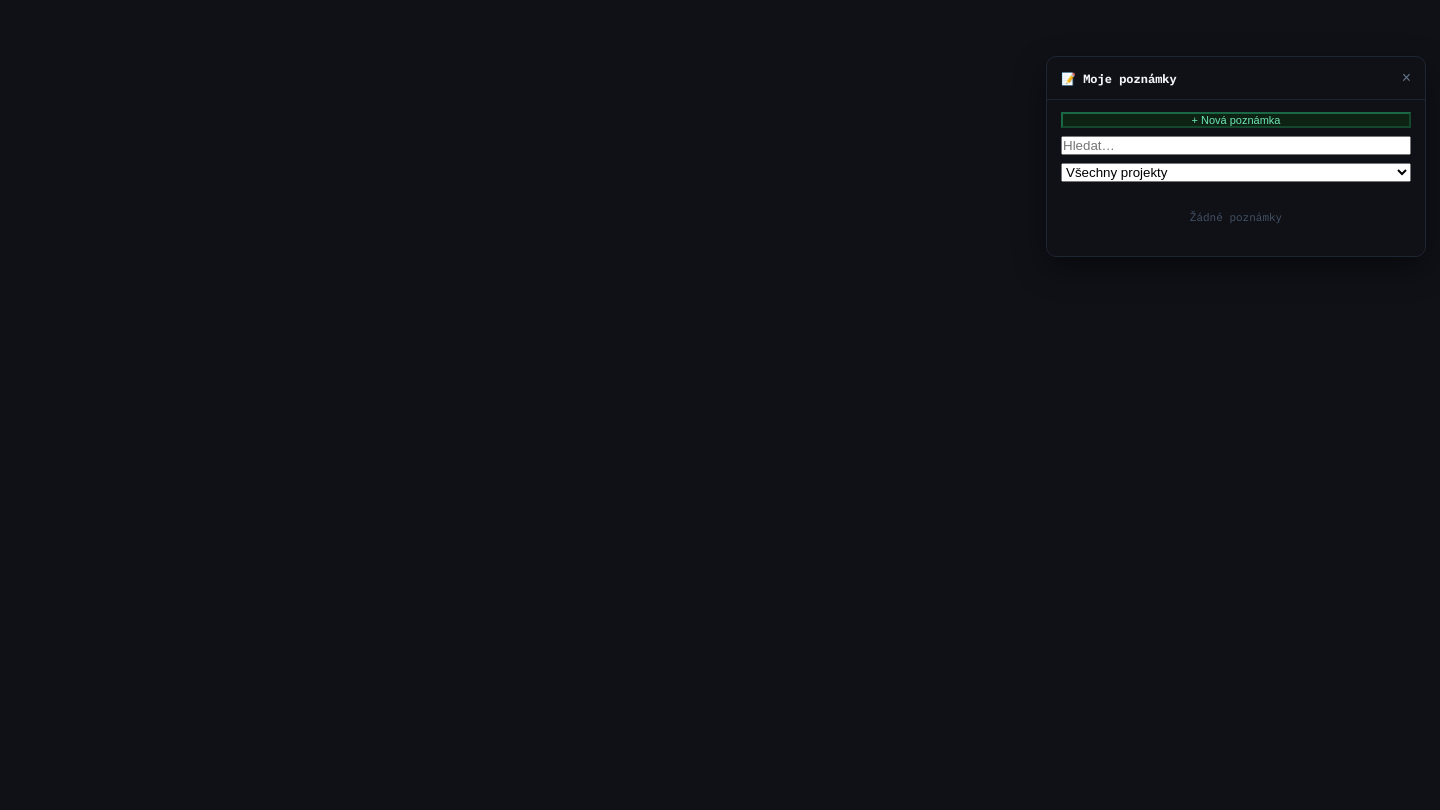
Test: QuickNotesPanel — převod právě napsané poznámky › po uložení draftu je "→ Přidat jako úkol" aktivní bez opětovného otevření
Click the button "+ Nová poznámka" at (1236, 120), box [1061,112,1411,128]
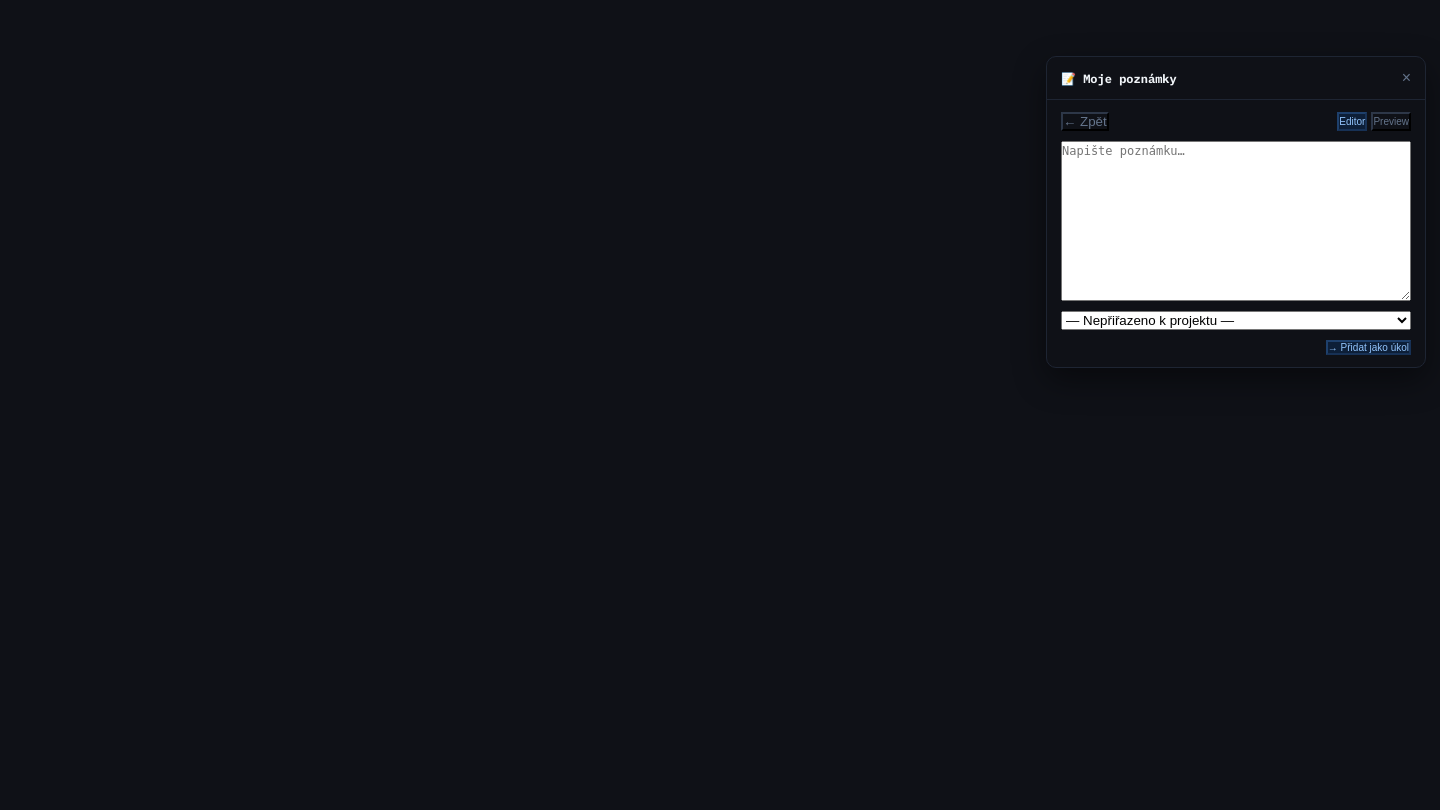
Type "Doplnit audit log" into the text box with placeholder "Napište poznámku…" at (1236, 221), box [1061,141,1411,301]
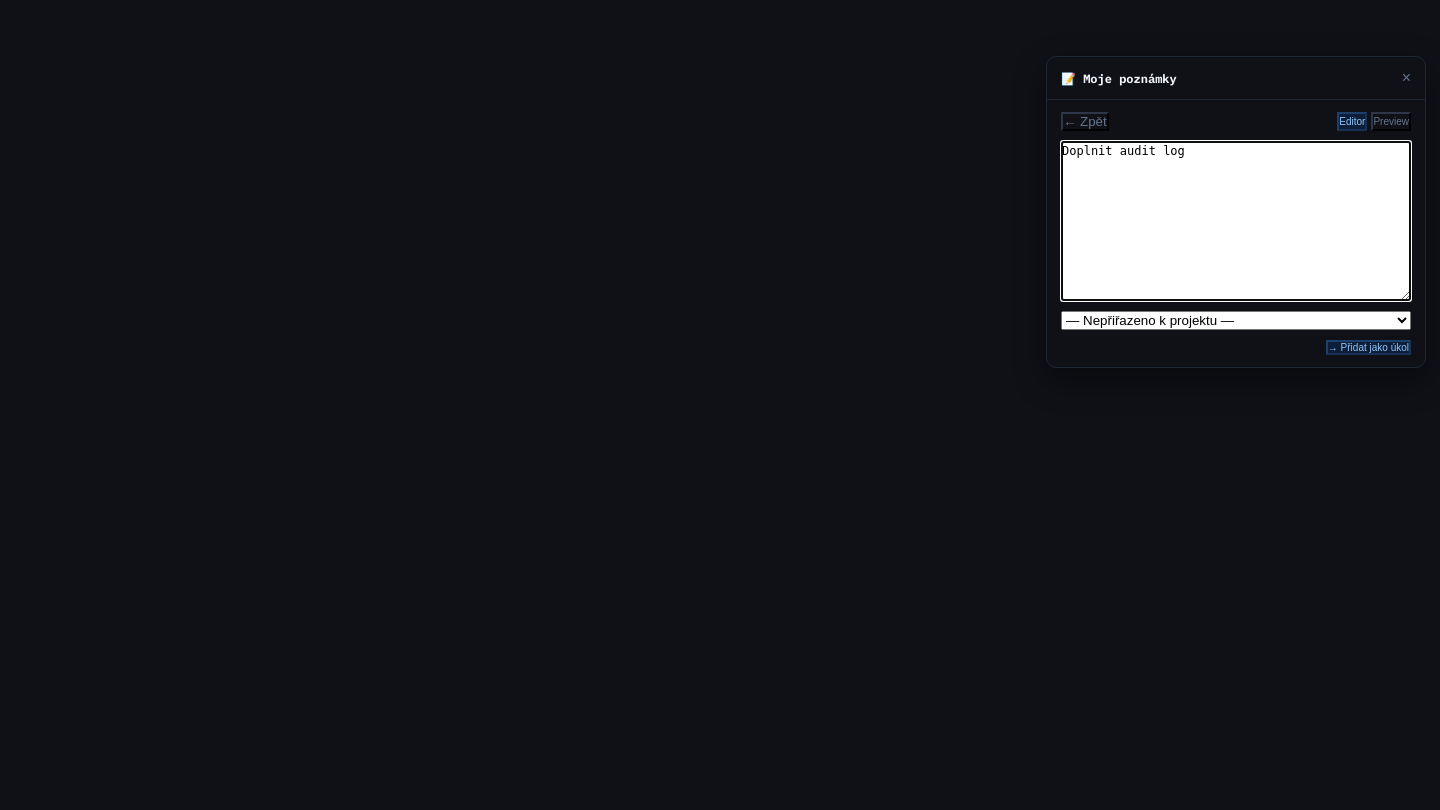
Select "Backend refaktoring" in the dropdown named "Přiřadit k projektu" at (1236, 320), box [1061,311,1411,330]
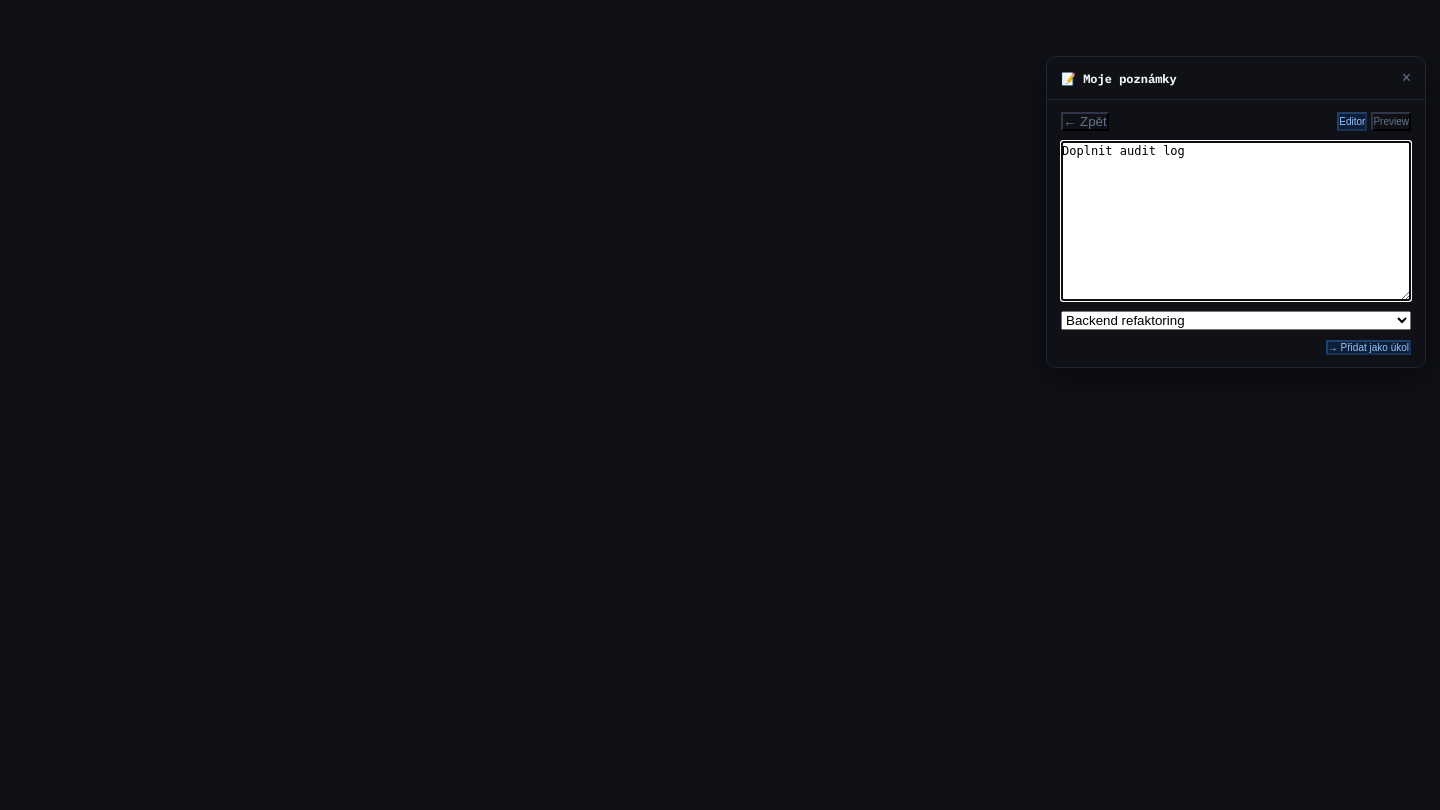
Now the button "→ Přidat jako úkol" is disabled, box [1326,340,1411,355]
Leave the text box with placeholder "Napište poznámku…", box [1061,141,1411,301]
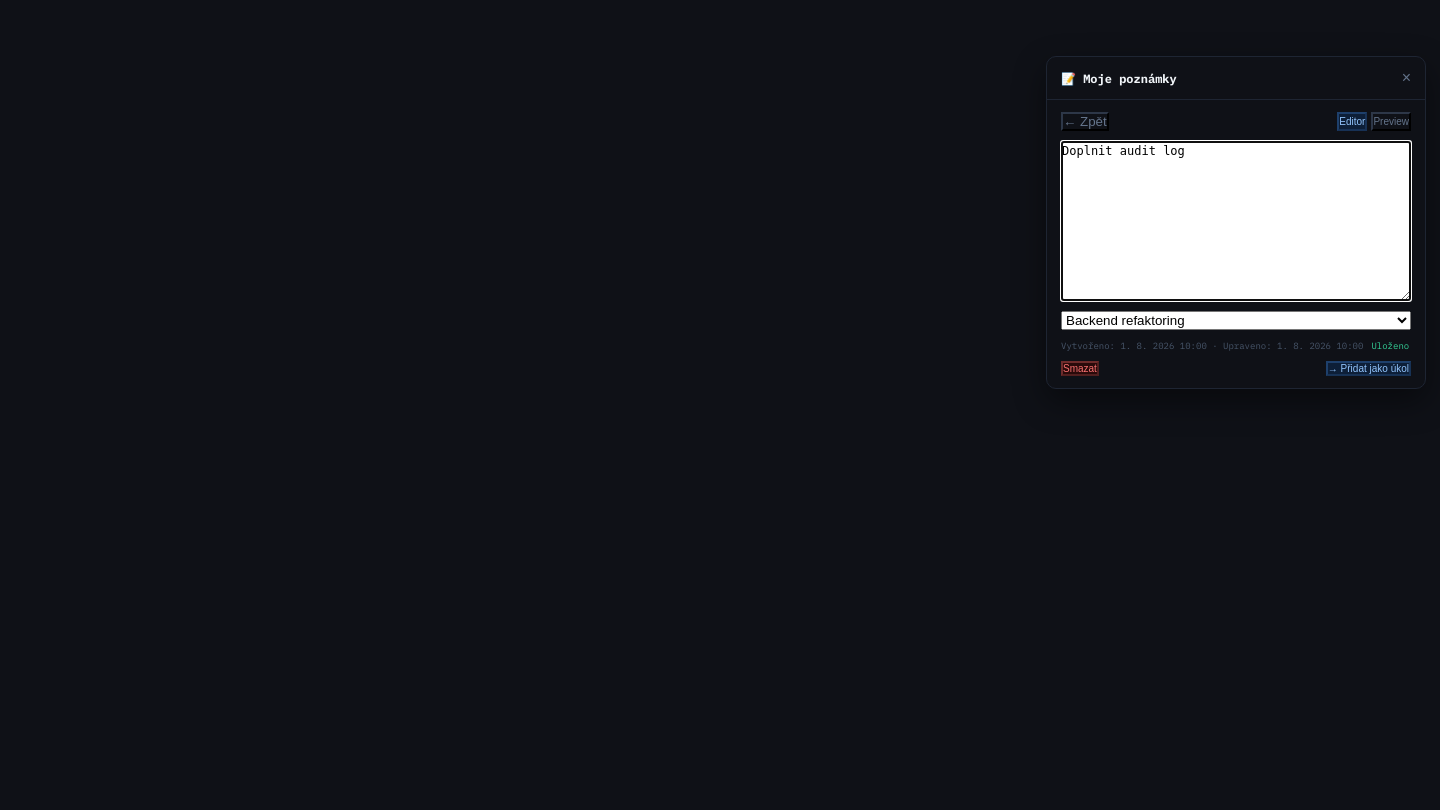
Now the button "→ Přidat jako úkol" is enabled, box [1326,361,1411,376]
